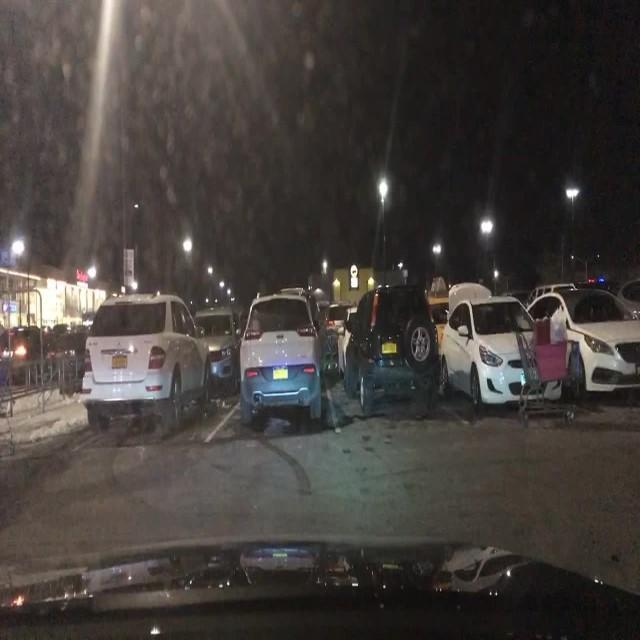normal: (440, 289, 640, 413), (85, 297, 215, 432), (338, 284, 447, 414)
